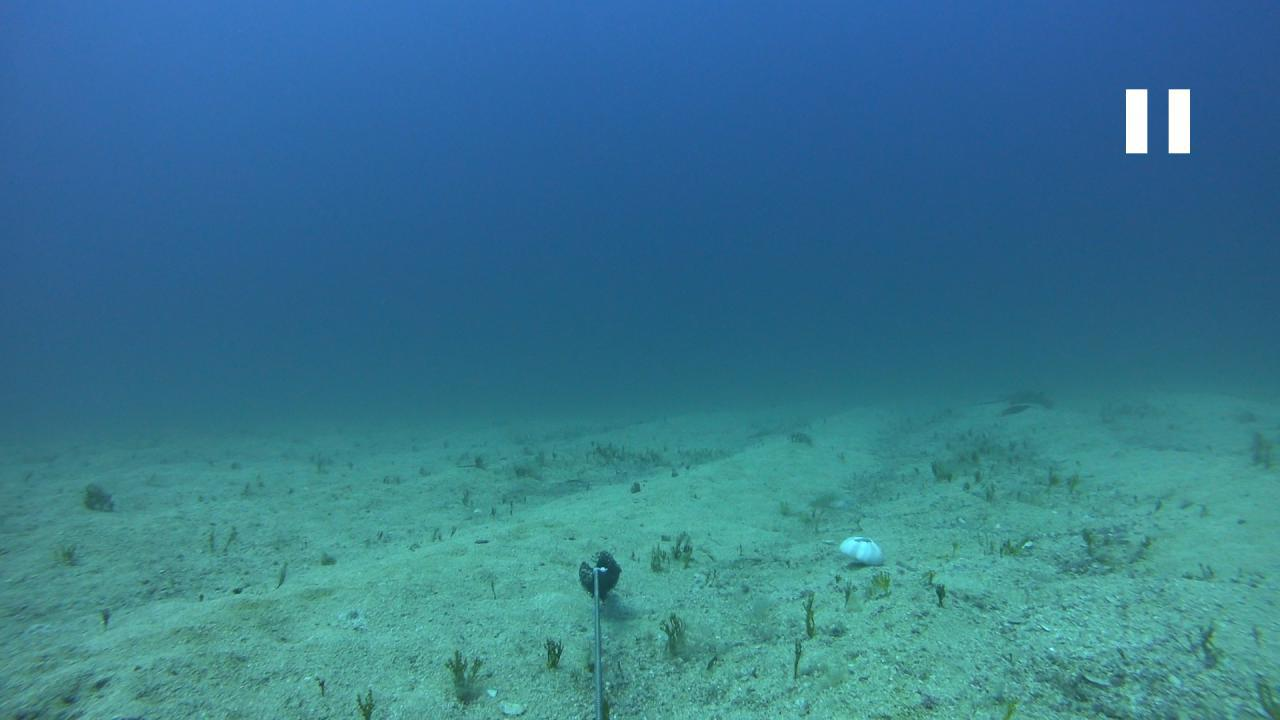dasyatis: (969, 386, 1053, 410)
